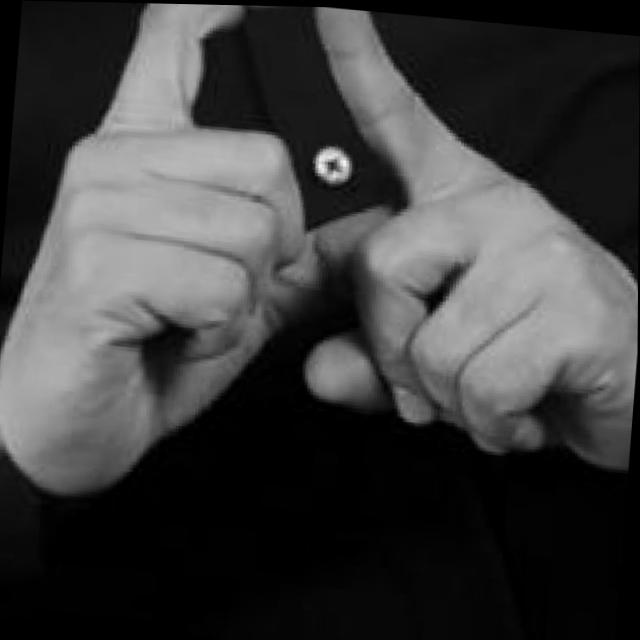D: (0, 0, 640, 555)
